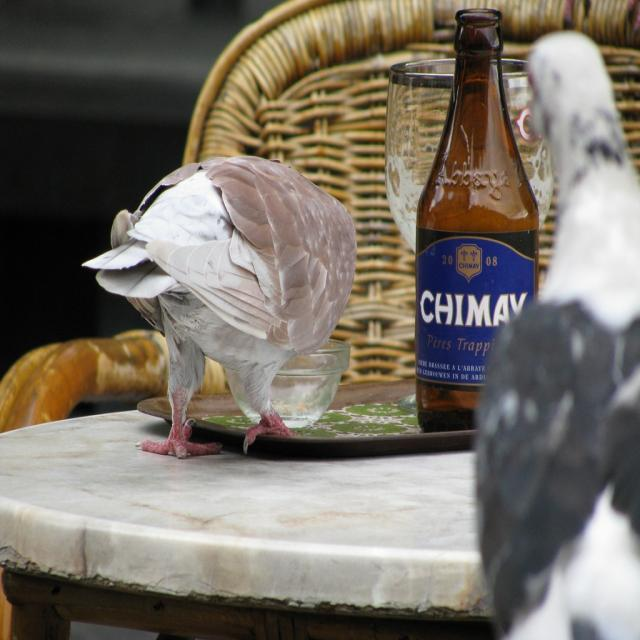chimay: (415, 236, 536, 387)
